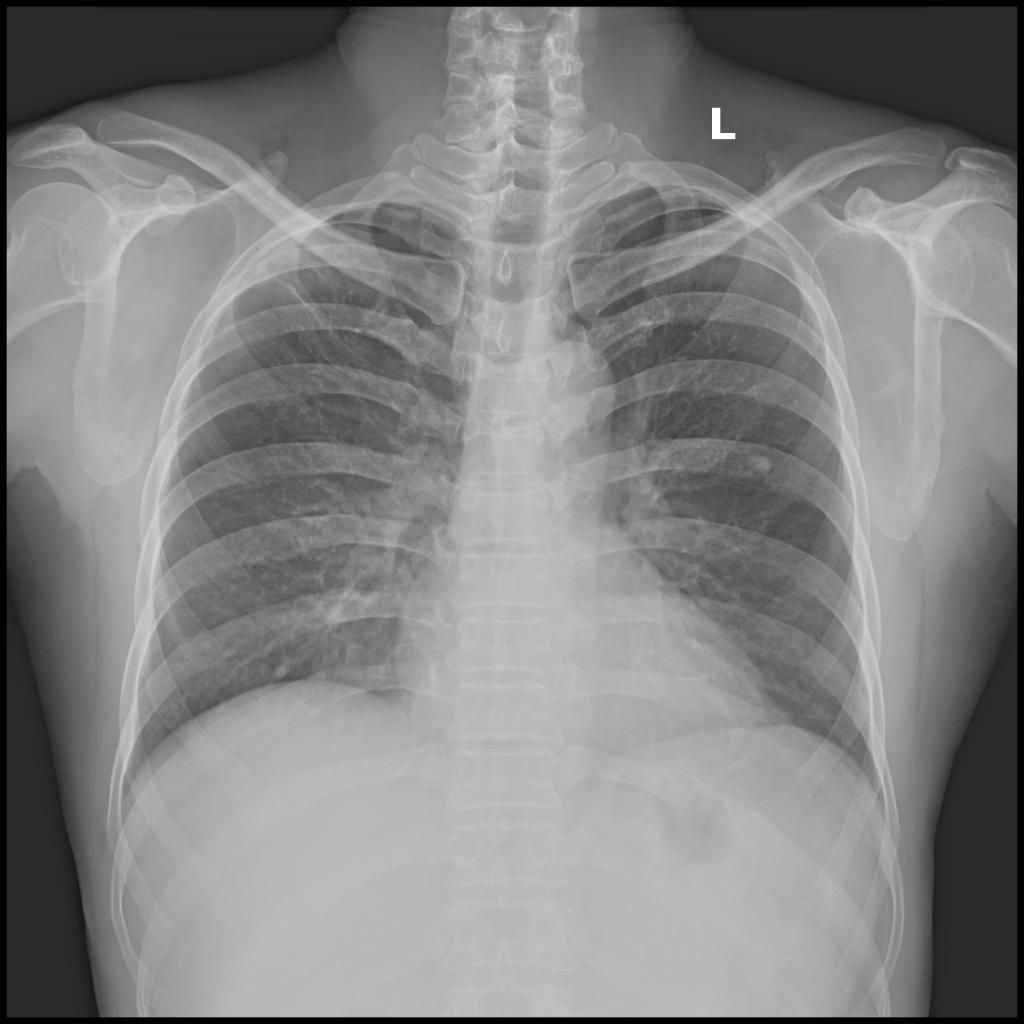Nodule: (750, 457, 774, 471)
